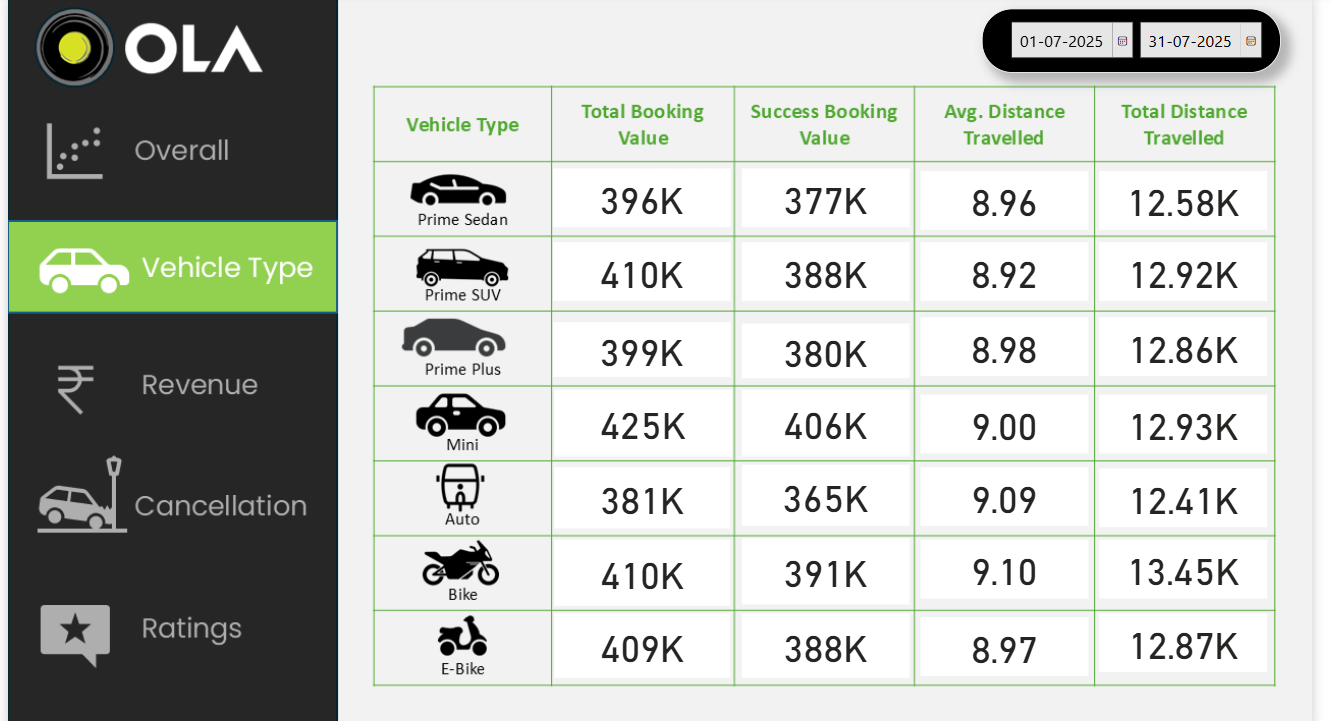

What the dashboard file says about the page in this screenshot:
{"tool":"powerbi","page":{"name":"Vehicle Type","canvas":[1280,720],"ordinal":1},"visuals":[{"type":"actionButton","box":[0,347.2,323.9,92],"z":0},{"type":"actionButton","box":[0,439.3,323.9,106.7],"z":1000},{"type":"actionButton","box":[0,565.6,323.9,106.7],"z":2000},{"type":"actionButton","box":[0,106.7,323.9,93.3],"z":3000},{"type":"card","fields":{"Values":["Sum(hyderabad_booking_data.Booking Value)"]},"box":[535.2,168.8,174.3,57.6],"z":4000},{"type":"card","fields":{"Values":["Sum(hyderabad_booking_data.Booking Value)"]},"box":[535.2,241.5,174.3,57.6],"z":5000},{"type":"card","fields":{"Values":["Sum(hyderabad_booking_data.Booking Value)"]},"box":[536.5,387,174.3,65.9],"z":6000},{"type":"card","fields":{"Values":["Sum(hyderabad_booking_data.Booking Value)"]},"box":[535.2,319.7,174.3,53.5],"z":7000},{"type":"card","fields":{"Values":["Sum(hyderabad_booking_data.Booking Value)"]},"box":[536.5,462.4,172.9,60.4],"z":8000},{"type":"card","fields":{"Values":["Sum(hyderabad_booking_data.Booking Value)"]},"box":[536.5,533.8,172.9,64.5],"z":9000},{"type":"card","fields":{"Values":["Sum(hyderabad_booking_data.Booking Value)"]},"box":[536.5,606.5,172.9,63.1],"z":10000},{"type":"card","fields":{"Values":["Sum(hyderabad_booking_data.Booking Value)"]},"box":[720.4,168.8,164.7,57.6],"z":11000},{"type":"card","fields":{"Values":["Sum(hyderabad_booking_data.Booking Value)"]},"box":[720.4,241.5,164.7,57.6],"z":12000},{"type":"card","fields":{"Values":["Sum(hyderabad_booking_data.Booking Value)"]},"box":[720.4,321.1,164.7,53.5],"z":13000},{"type":"card","fields":{"Values":["Sum(hyderabad_booking_data.Booking Value)"]},"box":[720.4,387,164.7,65.9],"z":14000},{"type":"card","fields":{"Values":["Sum(hyderabad_booking_data.Booking Value)"]},"box":[720.4,459.7,164.7,60.4],"z":15000},{"type":"card","fields":{"Values":["Sum(hyderabad_booking_data.Booking Value)"]},"box":[720.4,532.4,164.7,64.5],"z":16000},{"type":"card","fields":{"Values":["Sum(hyderabad_booking_data.Booking Value)"]},"box":[720.4,606.5,164.7,63.1],"z":17000},{"type":"card","fields":{"Values":["Avg(hyderabad_booking_data.Ride Distance)"]},"box":[896.1,171.5,164.7,57.6],"z":18000},{"type":"card","fields":{"Values":["Avg(hyderabad_booking_data.Ride Distance)"]},"box":[896.1,241.5,164.7,57.6],"z":19000},{"type":"card","fields":{"Values":["Avg(hyderabad_booking_data.Ride Distance)"]},"box":[896.1,315.6,164.7,57.6],"z":20000},{"type":"card","fields":{"Values":["Sum(hyderabad_booking_data.Ride Distance)"]},"box":[1071.7,315.6,164.7,57.6],"z":21000},{"type":"card","fields":{"Values":["Sum(hyderabad_booking_data.Ride Distance)"]},"box":[1071.7,241.5,164.7,57.6],"z":22000},{"type":"card","fields":{"Values":["Sum(hyderabad_booking_data.Ride Distance)"]},"box":[1071.7,171.5,164.7,57.6],"z":23000},{"type":"card","fields":{"Values":["Sum(hyderabad_booking_data.Ride Distance)"]},"box":[1071.7,463.8,164.7,57.6],"z":24000},{"type":"card","fields":{"Values":["Avg(hyderabad_booking_data.Ride Distance)"]},"box":[896.1,462.4,164.7,57.6],"z":25000},{"type":"card","fields":{"Values":["Sum(hyderabad_booking_data.Ride Distance)"]},"box":[1071.7,391.1,164.7,57.6],"z":26000},{"type":"card","fields":{"Values":["Avg(hyderabad_booking_data.Ride Distance)"]},"box":[896.1,391.1,164.7,57.6],"z":27000},{"type":"card","fields":{"Values":["Sum(hyderabad_booking_data.Ride Distance)"]},"box":[1071.7,606.5,164.7,57.6],"z":28000},{"type":"card","fields":{"Values":["Avg(hyderabad_booking_data.Ride Distance)"]},"box":[896.1,609.3,164.7,57.6],"z":29000},{"type":"card","fields":{"Values":["Sum(hyderabad_booking_data.Ride Distance)"]},"box":[1071.7,533.8,164.7,57.6],"z":30000},{"type":"card","fields":{"Values":["Avg(hyderabad_booking_data.Ride Distance)"]},"box":[896.1,533.8,164.7,57.6],"z":31000},{"type":"slicer","title":"Date","fields":{"Values":["hyderabad_booking_data.Date"]},"box":[956.4,12.3,293.7,63.1],"z":32000}]}

Visuals, with their boxes on the page's 1280x720 design canvas (x1, y1, x2, y2). These are canvas units, not pixel positions in the 1332x721 screenshot, which may show the page scaled, cropped or inside an application window:
actionButton: box(0, 347, 324, 439)
actionButton: box(0, 439, 324, 546)
actionButton: box(0, 566, 324, 672)
actionButton: box(0, 107, 324, 200)
card - Sum(hyderabad_booking_data.Booking Value): box(535, 169, 710, 226)
card - Sum(hyderabad_booking_data.Booking Value): box(535, 242, 710, 299)
card - Sum(hyderabad_booking_data.Booking Value): box(536, 387, 711, 453)
card - Sum(hyderabad_booking_data.Booking Value): box(535, 320, 710, 373)
card - Sum(hyderabad_booking_data.Booking Value): box(536, 462, 709, 523)
card - Sum(hyderabad_booking_data.Booking Value): box(536, 534, 709, 598)
card - Sum(hyderabad_booking_data.Booking Value): box(536, 606, 709, 670)
card - Sum(hyderabad_booking_data.Booking Value): box(720, 169, 885, 226)
card - Sum(hyderabad_booking_data.Booking Value): box(720, 242, 885, 299)
card - Sum(hyderabad_booking_data.Booking Value): box(720, 321, 885, 375)
card - Sum(hyderabad_booking_data.Booking Value): box(720, 387, 885, 453)
card - Sum(hyderabad_booking_data.Booking Value): box(720, 460, 885, 520)
card - Sum(hyderabad_booking_data.Booking Value): box(720, 532, 885, 597)
card - Sum(hyderabad_booking_data.Booking Value): box(720, 606, 885, 670)
card - Avg(hyderabad_booking_data.Ride Distance): box(896, 172, 1061, 229)
card - Avg(hyderabad_booking_data.Ride Distance): box(896, 242, 1061, 299)
card - Avg(hyderabad_booking_data.Ride Distance): box(896, 316, 1061, 373)
card - Sum(hyderabad_booking_data.Ride Distance): box(1072, 316, 1236, 373)
card - Sum(hyderabad_booking_data.Ride Distance): box(1072, 242, 1236, 299)
card - Sum(hyderabad_booking_data.Ride Distance): box(1072, 172, 1236, 229)
card - Sum(hyderabad_booking_data.Ride Distance): box(1072, 464, 1236, 521)
card - Avg(hyderabad_booking_data.Ride Distance): box(896, 462, 1061, 520)
card - Sum(hyderabad_booking_data.Ride Distance): box(1072, 391, 1236, 449)
card - Avg(hyderabad_booking_data.Ride Distance): box(896, 391, 1061, 449)
card - Sum(hyderabad_booking_data.Ride Distance): box(1072, 606, 1236, 664)
card - Avg(hyderabad_booking_data.Ride Distance): box(896, 609, 1061, 667)
card - Sum(hyderabad_booking_data.Ride Distance): box(1072, 534, 1236, 591)
card - Avg(hyderabad_booking_data.Ride Distance): box(896, 534, 1061, 591)
"Date" slicer: box(956, 12, 1250, 75)
